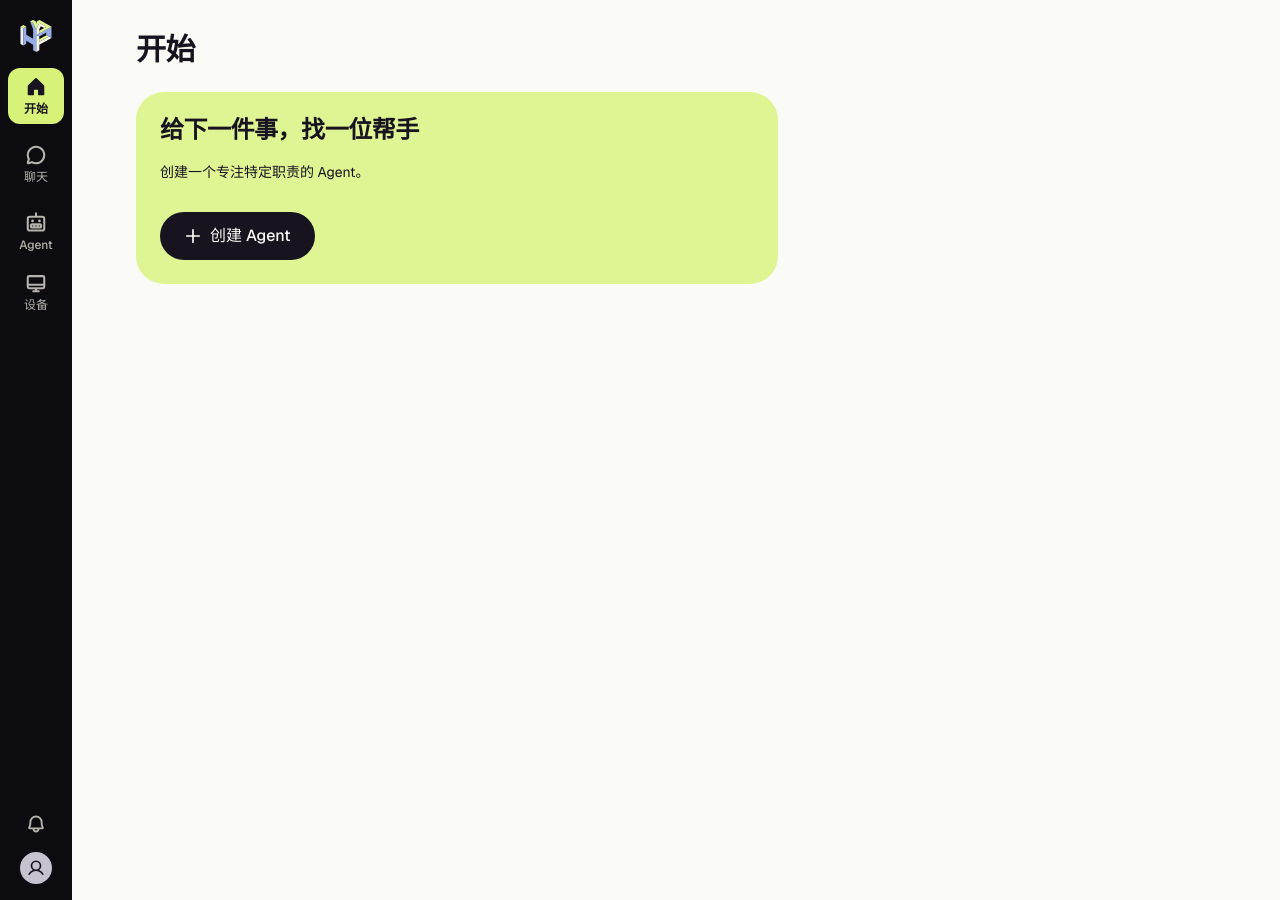
Test: J2 entries and J3 landing › TC-023 announces a stale Agent id through role=status
Click the button "Agent" at (36, 232), box [8, 204, 64, 260]
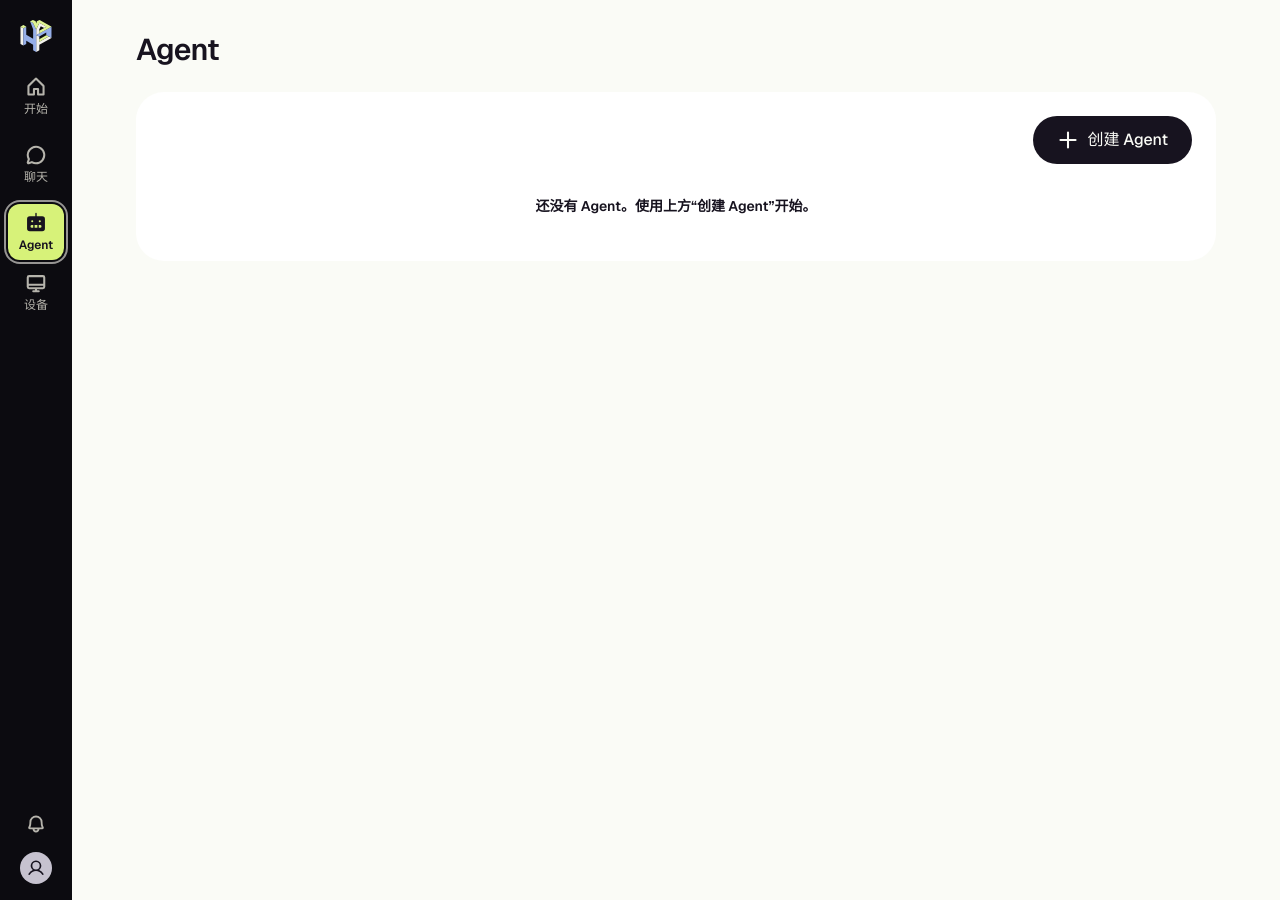
Click the button "聊天" at (36, 164), box [8, 136, 64, 192]
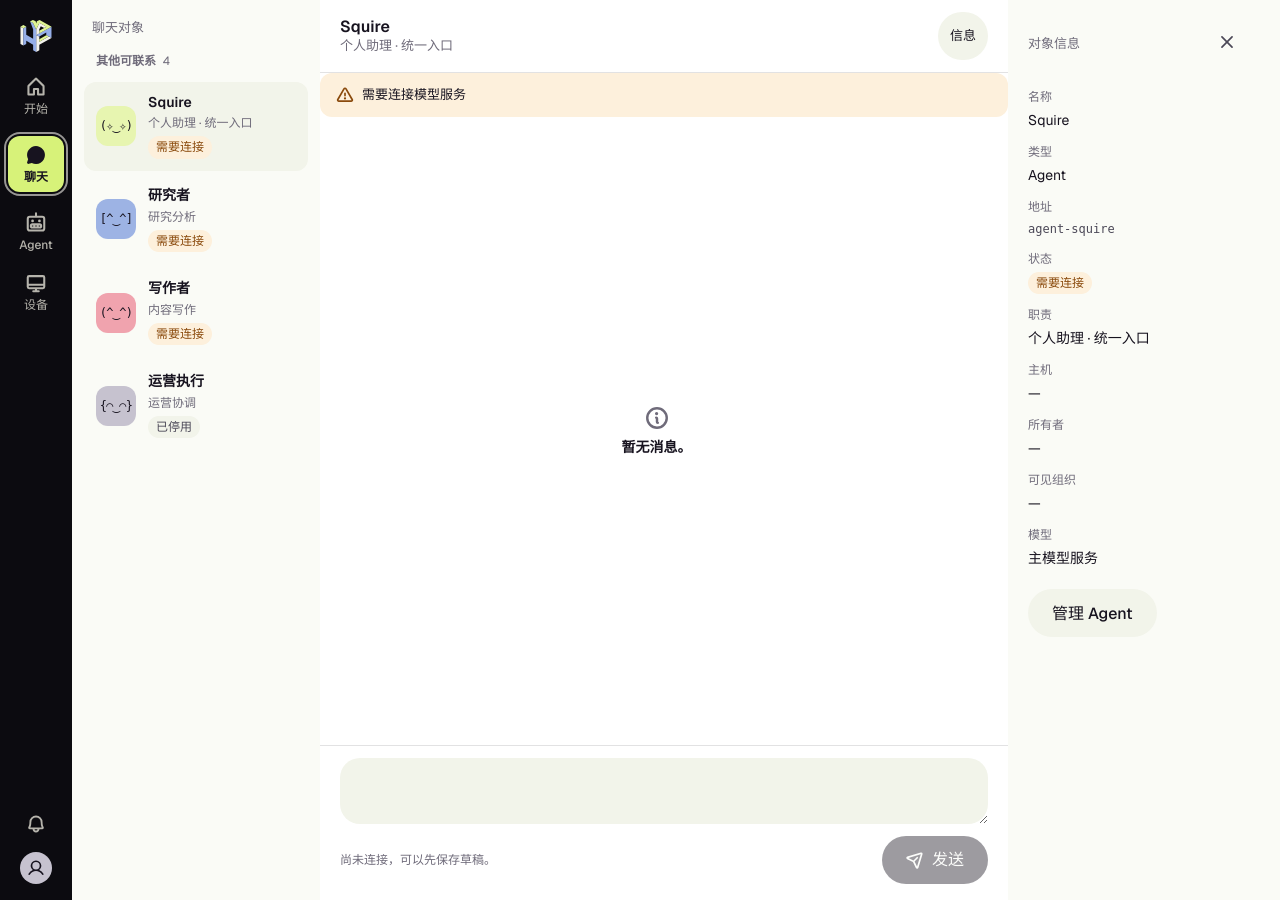
Click the button "(✧‿✧) Squire 个人助理 · 统一入口 需要连接" at (196, 126), box [84, 82, 308, 171]
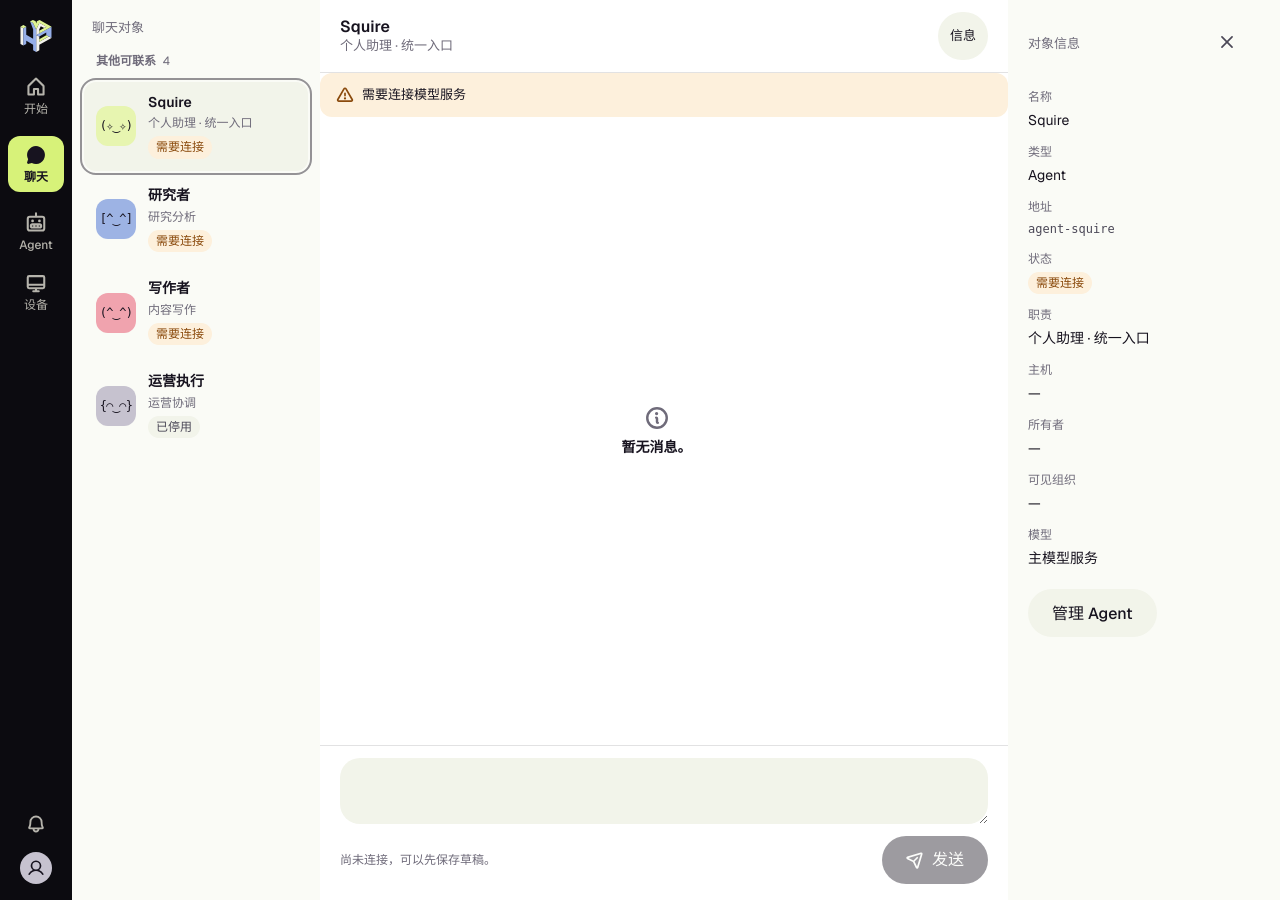
Click the button "管理 Agent" at (1092, 613), box [1028, 589, 1157, 637]
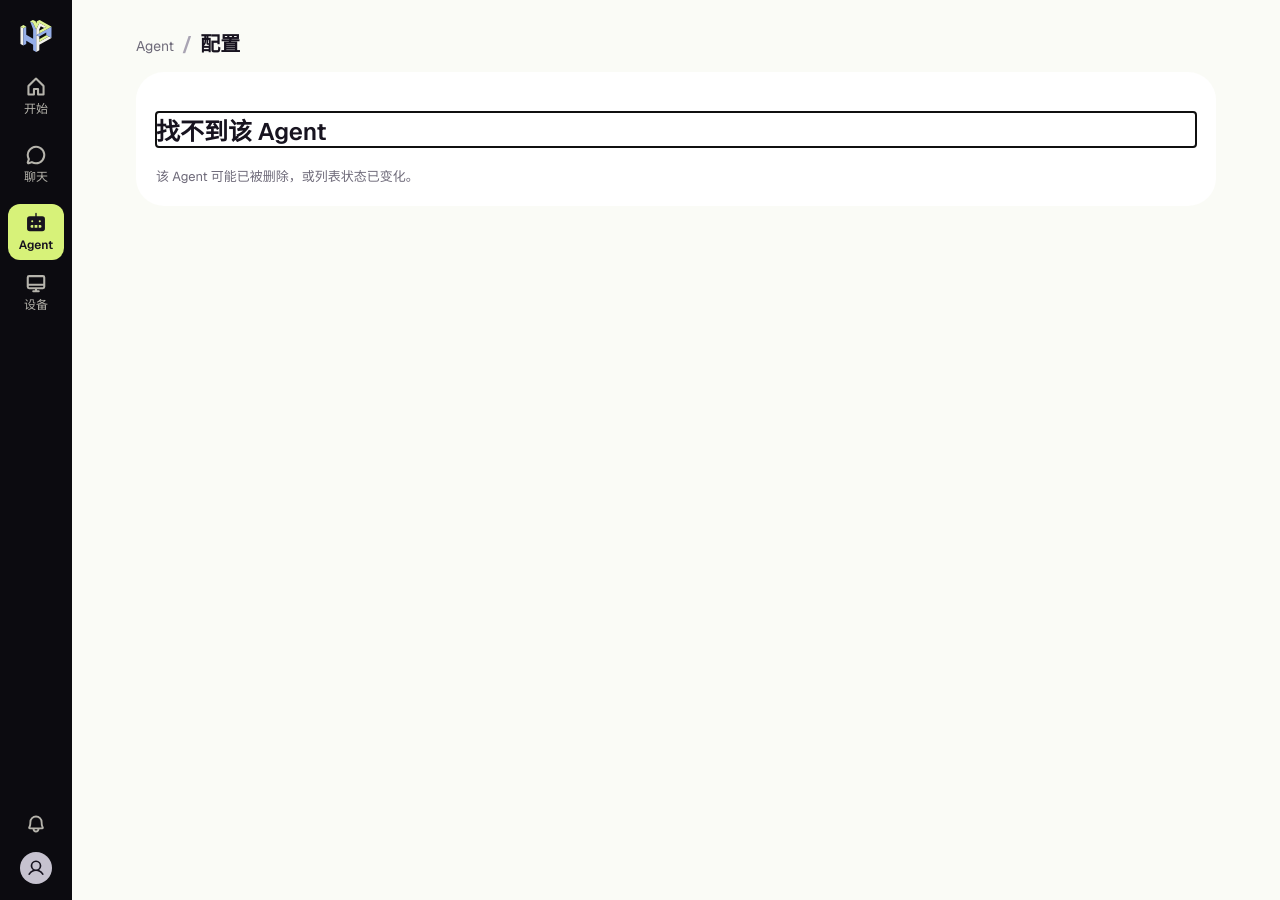
expect the message shows "找不到该 Agent": met, box [156, 116, 326, 147]
